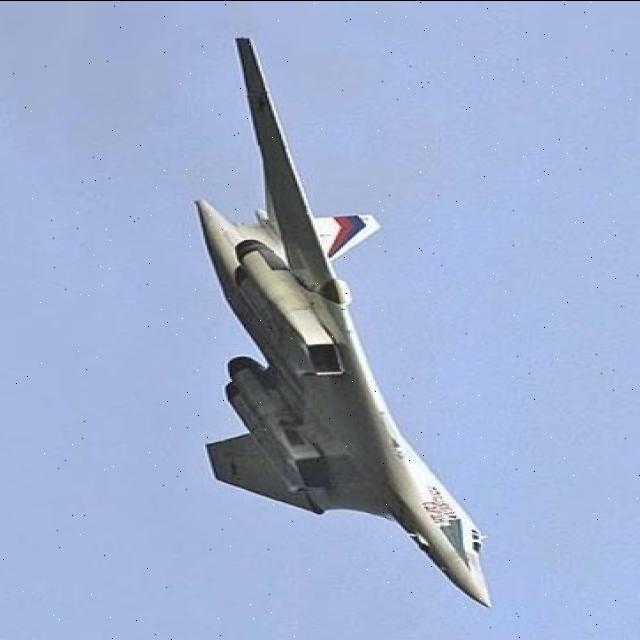Tu160: (172, 0, 522, 640)
